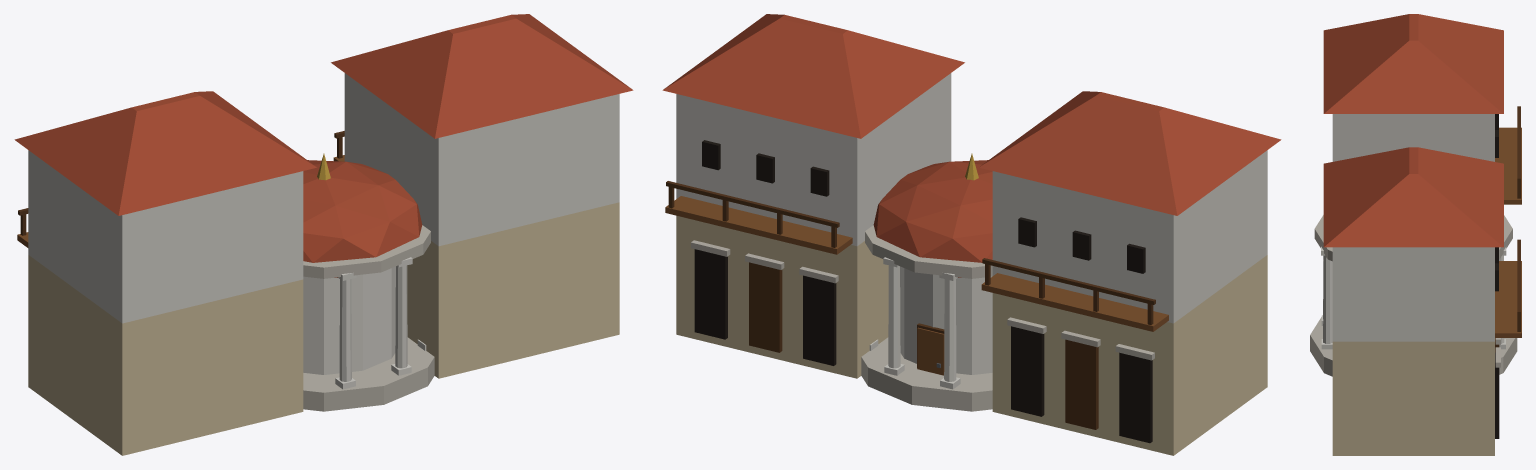
The model's file is angel_row_broken.glb.
3 renders of one model, left to right at view 1: azimuth 30°, elevation 25°; view 2: azimuth 150°, elevation 25°; view 3: azimuth 270°, elevation 25°, orthographic. The views are drawn at different scales.
Visible parts, largest first — view 1: angel_row_piece1, angel_row_piece6, angel_row_piece4, angel_row_piece5, angel_row_piece2, angel_row_piece8, angel_row_piece3, angel_row_piece9, angel_row_piece7, angel_row_piece11, angel_row_piece12, angel_row_piece0 (+1 smaller); view 2: angel_row_piece1, angel_row_piece3, angel_row_piece8, angel_row_piece4, angel_row_piece5, angel_row_piece9, angel_row_piece13, angel_row_piece10, angel_row_piece0, angel_row_piece7; view 3: angel_row_piece5, angel_row_piece3, angel_row_piece9, angel_row_piece8, angel_row_piece2, angel_row_piece1, angel_row_piece10, angel_row_piece11, angel_row_piece12, angel_row_piece7, angel_row_piece13, angel_row_piece4 (+2 smaller).
Part boxes in pixels (left/top/right/bottom): angel_row_piece1: left=14, top=125, right=147, bottom=454; angel_row_piece6: left=121, top=168, right=284, bottom=455; angel_row_piece4: left=230, top=153, right=413, bottom=429; angel_row_piece5: left=496, top=14, right=633, bottom=294; angel_row_piece2: left=369, top=25, right=551, bottom=406; angel_row_piece8: left=321, top=23, right=478, bottom=218; angel_row_piece3: left=68, top=91, right=316, bottom=276; angel_row_piece9: left=448, top=242, right=619, bottom=376; angel_row_piece7: left=333, top=109, right=481, bottom=410; angel_row_piece11: left=110, top=138, right=182, bottom=316; angel_row_piece12: left=475, top=25, right=515, bottom=116; angel_row_piece0: left=385, top=257, right=422, bottom=336; angel_row_piece1: left=1016, top=115, right=1272, bottom=455; angel_row_piece3: left=979, top=91, right=1193, bottom=365; angel_row_piece8: left=771, top=24, right=964, bottom=268; angel_row_piece4: left=880, top=153, right=1039, bottom=423; angel_row_piece5: left=662, top=14, right=797, bottom=276; angel_row_piece9: left=676, top=229, right=853, bottom=377; angel_row_piece13: left=774, top=158, right=917, bottom=400; angel_row_piece10: left=758, top=14, right=817, bottom=87; angel_row_piece0: left=751, top=87, right=800, bottom=172; angel_row_piece7: left=921, top=121, right=951, bottom=168; angel_row_piece5: left=1323, top=176, right=1521, bottom=420; angel_row_piece3: left=1323, top=14, right=1521, bottom=204; angel_row_piece9: left=1332, top=283, right=1521, bottom=455; angel_row_piece8: left=1323, top=147, right=1521, bottom=269; angel_row_piece2: left=1310, top=178, right=1401, bottom=376; angel_row_piece1: left=1465, top=23, right=1521, bottom=165; angel_row_piece10: left=1393, top=158, right=1480, bottom=200; angel_row_piece11: left=1323, top=18, right=1386, bottom=50; angel_row_piece12: left=1333, top=158, right=1413, bottom=180; angel_row_piece7: left=1312, top=176, right=1339, bottom=336; angel_row_piece13: left=1499, top=254, right=1521, bottom=374; angel_row_piece4: left=1314, top=161, right=1517, bottom=354.
Size of the model in its own units: 3.71 by 2.05 by 1.53.
